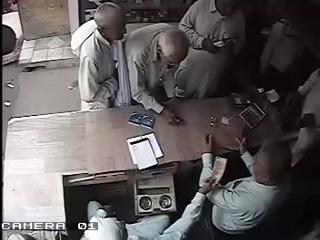Normal: (154, 138, 294, 240), (172, 0, 246, 100), (120, 22, 190, 123)
shoplifting: (70, 2, 128, 112)
